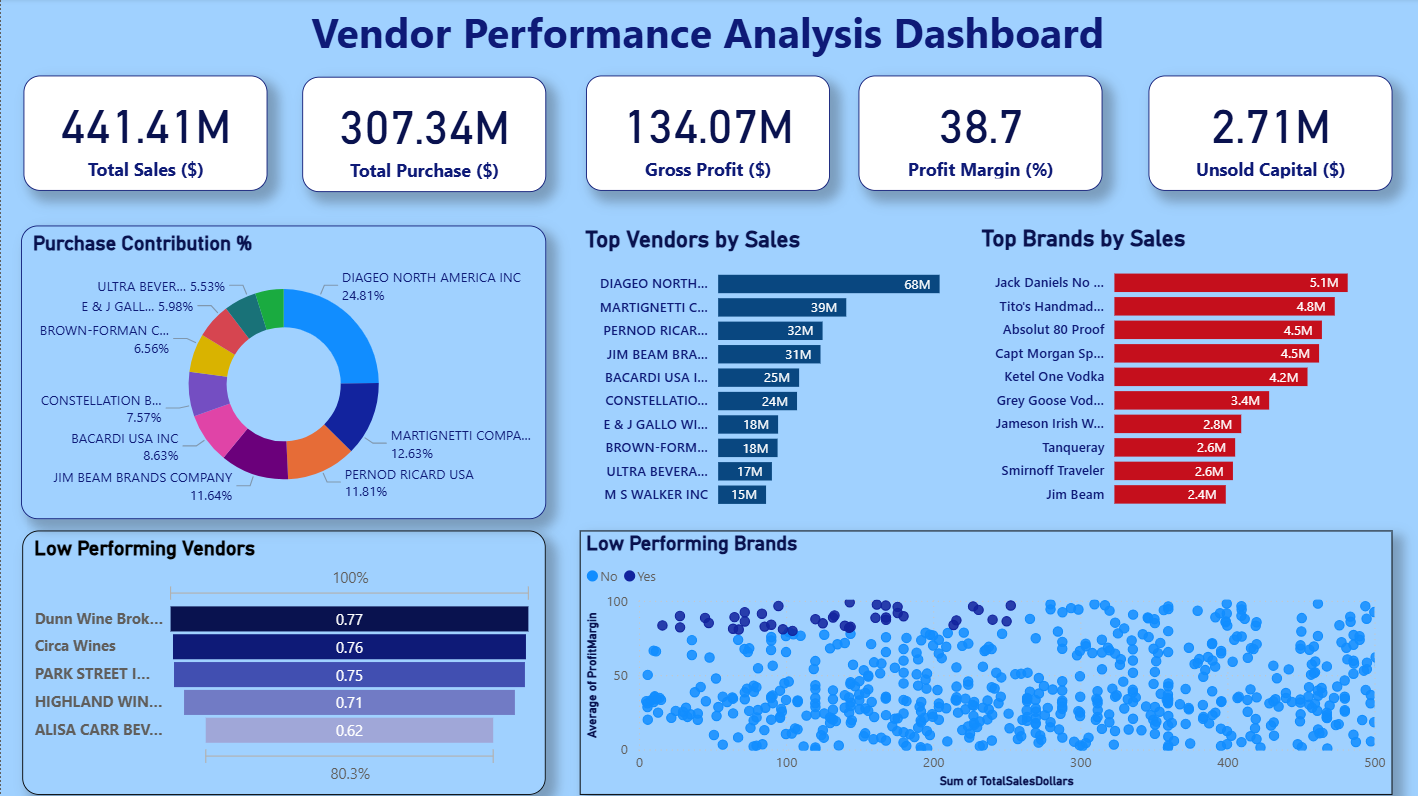

What the dashboard file says about the page in this screenshot:
{"tool":"powerbi","page":{"name":"Page 1","canvas":[1280,720],"ordinal":0},"visuals":[{"type":"textbox","box":[20,0,1234.3,70],"z":0},{"type":"card","fields":{"Values":["Sum(vendor_sales_summary.TotalSalesDollars)"]},"box":[20,70,220,104.3],"z":1000},{"type":"card","fields":{"Values":["Sum(vendor_sales_summary.TotalPurchaseDollars)"]},"box":[271.4,71.4,220,104.3],"z":2000},{"type":"card","fields":{"Values":["Sum(vendor_sales_summary.GrossProfit)"]},"box":[527.1,70,220,104.3],"z":3000},{"type":"card","fields":{"Values":["Avg(vendor_sales_summary.ProfitMargin)"]},"box":[772.9,70,220,104.3],"z":4000},{"type":"card","fields":{"Values":["Sum(vendor_sales_summary.UnsoldInventoryValue)"]},"box":[1034.3,70,220,104.3],"z":5000},{"type":"donutChart","title":"Purchase Contribution %","fields":{"Category":["purchase_contribution.VendorName"],"Y":["Sum(purchase_contribution.PurchaseContribution%)"]},"box":[18.3,205,473.3,265],"z":6000},{"type":"clusteredBarChart","title":"Top Vendors by Sales","fields":{"Category":["purchase_contribution.VendorName"],"Y":["Sum(purchase_contribution.TotalSalesDollars)"]},"box":[521.7,205,375,265],"z":7000},{"type":"clusteredBarChart","title":"Top Brands by Sales","fields":{"Category":["vendor_sales_summary.Description"],"Y":["Sum(vendor_sales_summary.TotalSalesDollars)"]},"box":[879.6,204.5,375,265.9],"z":8000},{"type":"funnel","title":"Low Performing Vendors","fields":{"Category":["low_perfromance.VendorName"],"Y":["Sum(low_perfromance.StockTurnover)"]},"box":[18.8,480.7,472.2,238.6],"z":9000},{"type":"scatterChart","title":"Low Performing Brands","fields":{"Category":["brand_performance.Description"],"X":["Sum(brand_performance.TotalSalesDollars)"],"Y":["Avg(brand_performance.ProfitMargin)"],"Series":["brand_performance.TargetBrands"]},"box":[521.6,480.7,733,238.6],"z":10000}]}

Visuals, with their boxes in screenshot pixels (x1, y1, x2, y2), scaled from the page's 1280x720 canvas onto the 1418x796 screenshot:
textbox: bbox=(22, 0, 1390, 77)
card - Sum(vendor_sales_summary.TotalSalesDollars): bbox=(22, 77, 266, 193)
card - Sum(vendor_sales_summary.TotalPurchaseDollars): bbox=(301, 79, 544, 194)
card - Sum(vendor_sales_summary.GrossProfit): bbox=(584, 77, 828, 193)
card - Avg(vendor_sales_summary.ProfitMargin): bbox=(856, 77, 1100, 193)
card - Sum(vendor_sales_summary.UnsoldInventoryValue): bbox=(1146, 77, 1390, 193)
"Purchase Contribution %" donutChart: bbox=(20, 227, 545, 520)
"Top Vendors by Sales" clusteredBarChart: bbox=(578, 227, 993, 520)
"Top Brands by Sales" clusteredBarChart: bbox=(974, 226, 1390, 520)
"Low Performing Vendors" funnel: bbox=(21, 531, 544, 795)
"Low Performing Brands" scatterChart: bbox=(578, 531, 1390, 795)
